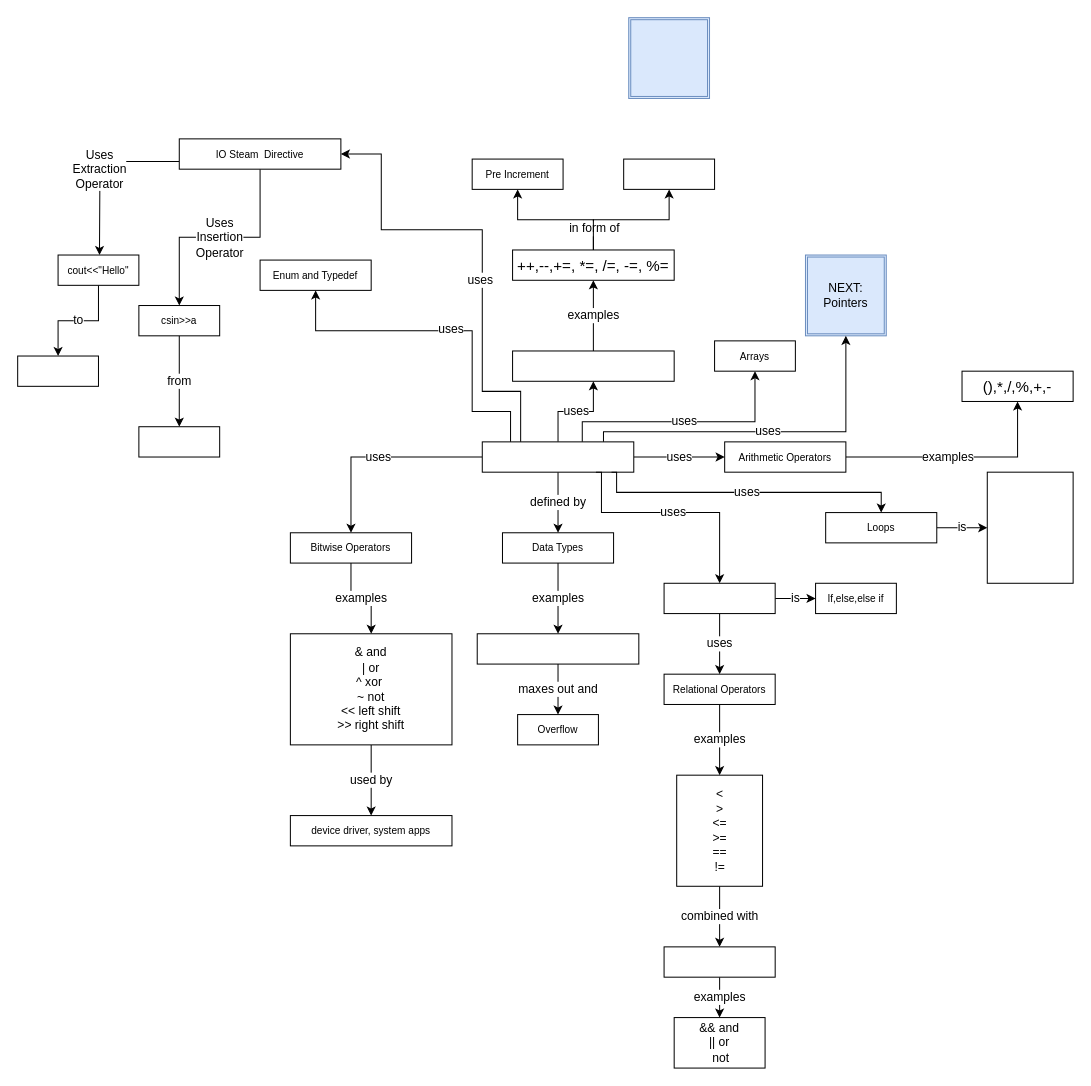
This 1091x1086 diagram has some shape labels left out. The shapes that lost their labels are listed below. From the top down, each one's centre as x and y in pixels, then its label:
point (669, 57): NEXT: Arrays
point (669, 173): Post Increment
point (57, 370): Sceen
point (593, 365): Compound Assignments
point (179, 441): Keyboard
point (557, 456): Variables
point (1029, 527): while(){} do(){}while() for(){}
point (719, 598): Conditionals
point (557, 648): char, int, long, float, double
point (719, 961): Logical Operators
